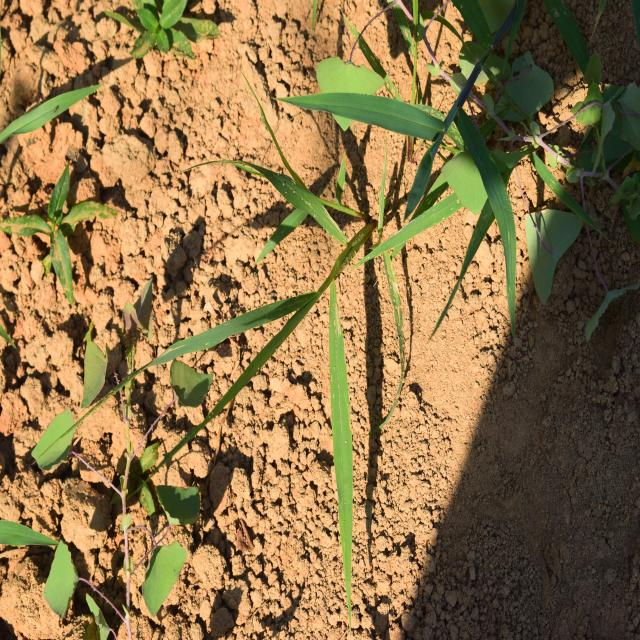green_foxtail: (169, 154, 384, 532)
